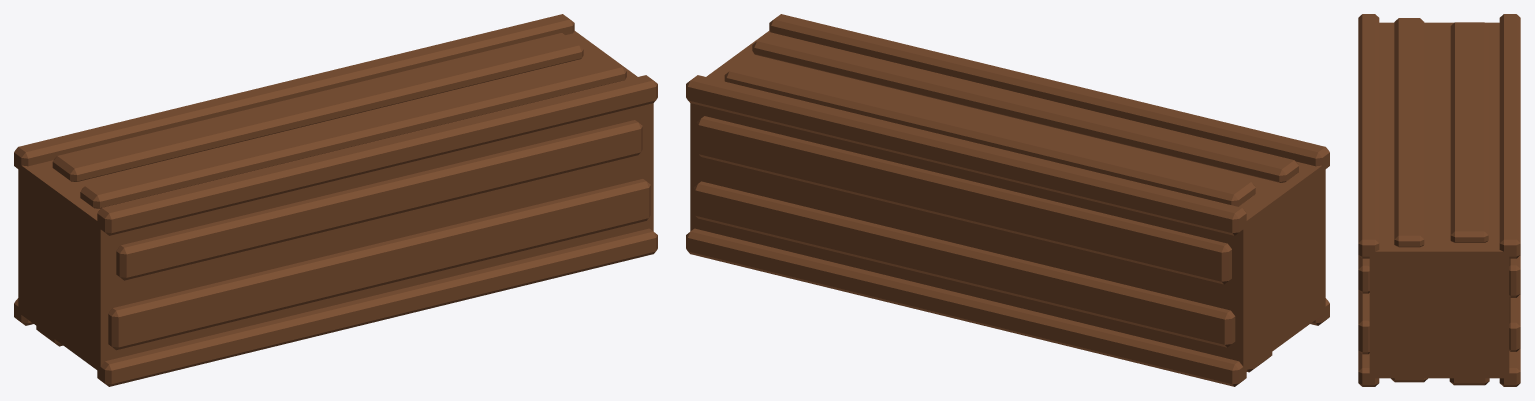
The model's file is Log.fbx.
3 renders of one model, left to right at view 1: azimuth 30°, elevation 25°; view 2: azimuth 150°, elevation 25°; view 3: azimuth 270°, elevation 25°, orthographic. The views are drawn at different scales.
Visible parts, largest first — view 1: Log; view 2: Log; view 3: Log.
Part boxes in pixels (x1,y1,x2,y2): Log: [14, 14, 657, 386]; Log: [686, 14, 1329, 386]; Log: [1358, 14, 1520, 386].
Size of the model in its own units: 4 by 1.2 by 1.2.
